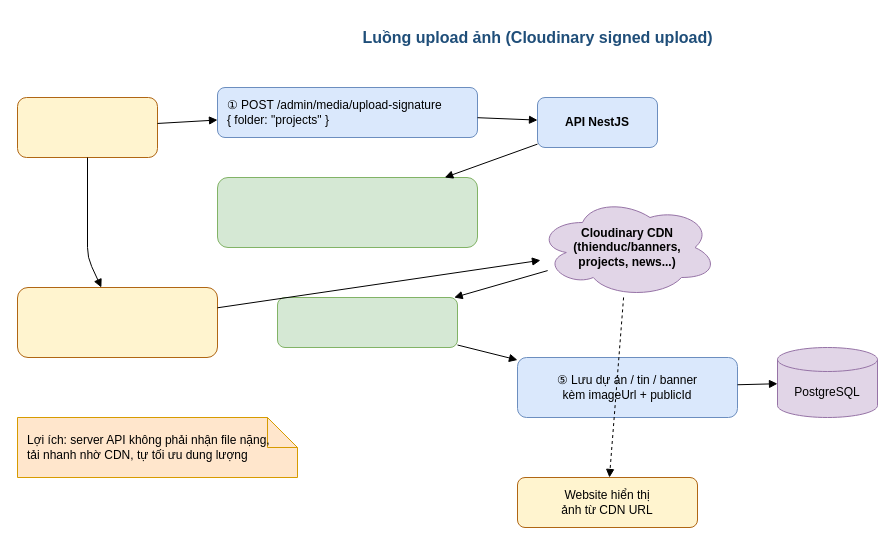
This 895x545 diagram has some shape labels left out. The shapes that lost their labels are listed below. From the top down, each one's centre as x and y in pixels, then its label:
At point 87,127: "Admin (chọn file ảnh)".
At point 347,212: "② Trả về chữ ký: signature, timestamp, cloudName, apiKey, folder".
At point 117,322: "③ Admin upload TRỰC TIẾP lên Cloudinary (không qua server API)".
At point 367,322: "④ Cloudinary trả: url + public_id".
